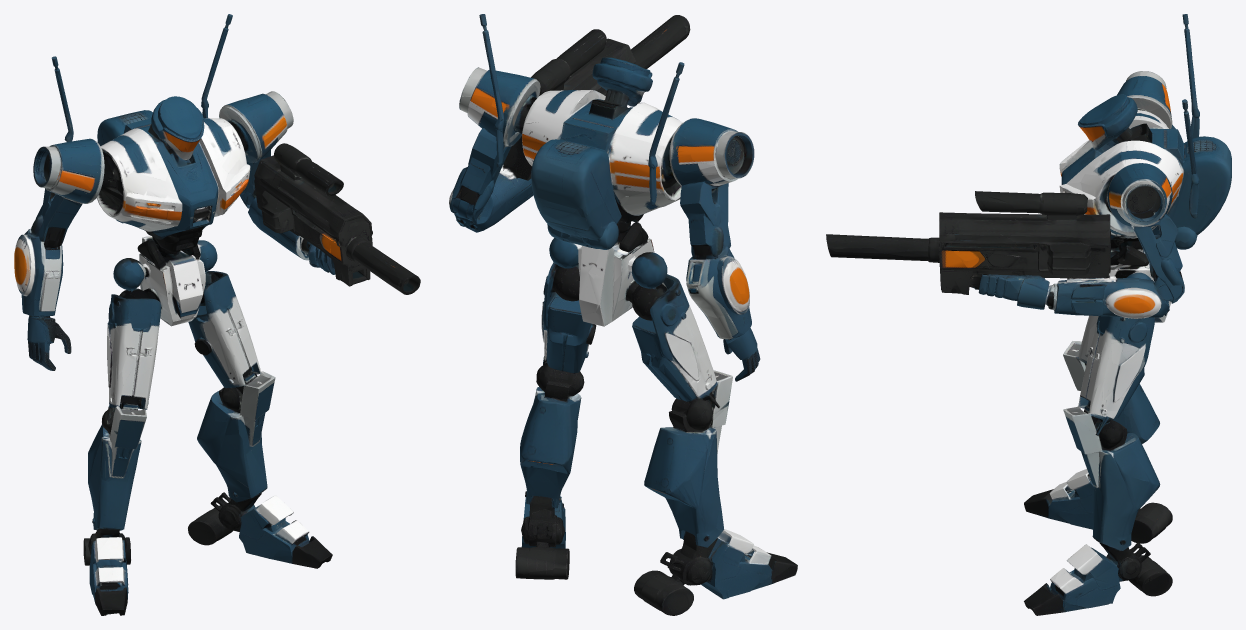
Rendered from en01_tech_sniper.fbx.
3 renders of one model, left to right at view 1: azimuth 30°, elevation 25°; view 2: azimuth 150°, elevation 25°; view 3: azimuth 270°, elevation 25°, orthographic. The views are drawn at different scales.
Parts seen in each view (by area): view 1: Mesh_0; view 2: Mesh_0; view 3: Mesh_0.
Boxes of the visible parts, box(x1,y1,x2,y2) form: Mesh_0: box(14, 14, 420, 615); Mesh_0: box(449, 14, 797, 615); Mesh_0: box(826, 14, 1231, 615).
Size of the model in its own units: 101 by 180 by 131.
1 material, 1 textured.
